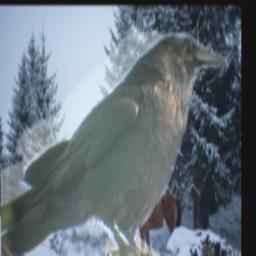Crow: (2, 33, 229, 256)
